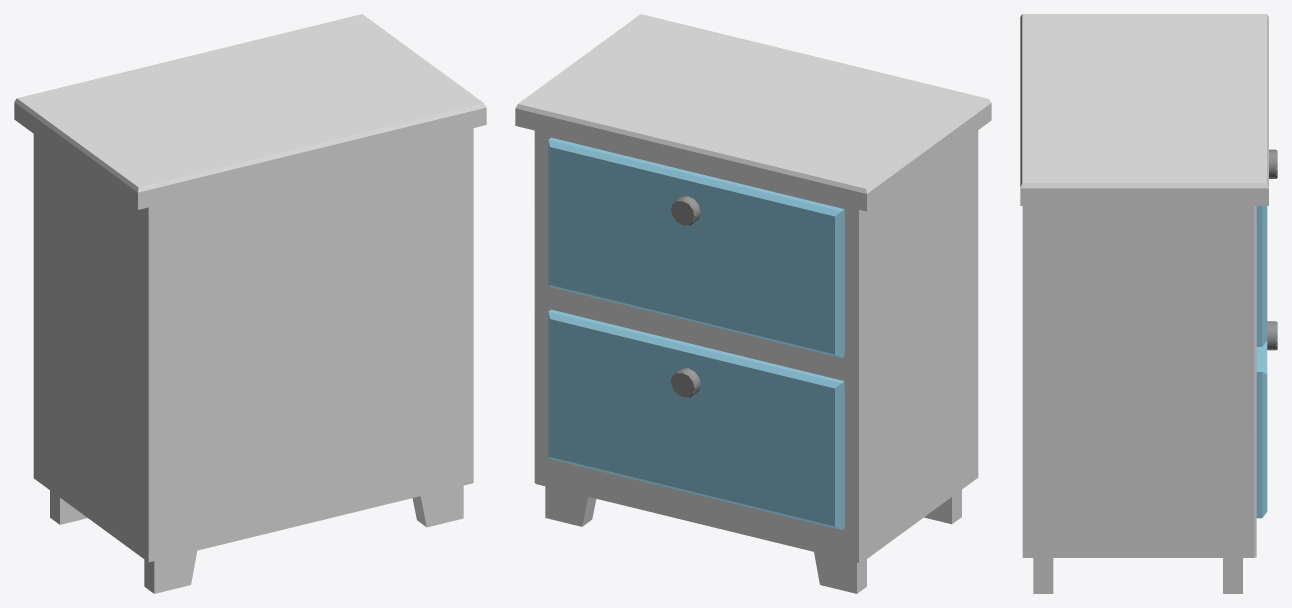
File: FURNITURE_nightStand_01.FBX
3 views of the same model, side by side, from view 1: azimuth 30°, elevation 25°; view 2: azimuth 150°, elevation 25°; view 3: azimuth 270°, elevation 25° (orthographic).
Parts seen in each view (by area): view 1: PROP_nightStand_01_base; view 2: PROP_nightStand_01_base, PROP_nightStand_01_drawer_01, PROP_nightStand_01_drawer_02; view 3: PROP_nightStand_01_base, PROP_nightStand_01_drawer_02, PROP_nightStand_01_drawer_01.
Part boxes in pixels (<box>): PROP_nightStand_01_base: <box>14,14,486,593</box>; PROP_nightStand_01_base: <box>515,14,991,593</box>; PROP_nightStand_01_drawer_01: <box>548,137,844,357</box>; PROP_nightStand_01_drawer_02: <box>548,309,844,529</box>; PROP_nightStand_01_base: <box>1020,14,1268,593</box>; PROP_nightStand_01_drawer_02: <box>1256,321,1277,518</box>; PROP_nightStand_01_drawer_01: <box>1256,149,1277,346</box>.
Size of the model in its own units: 66.68 by 75.94 by 42.4.
